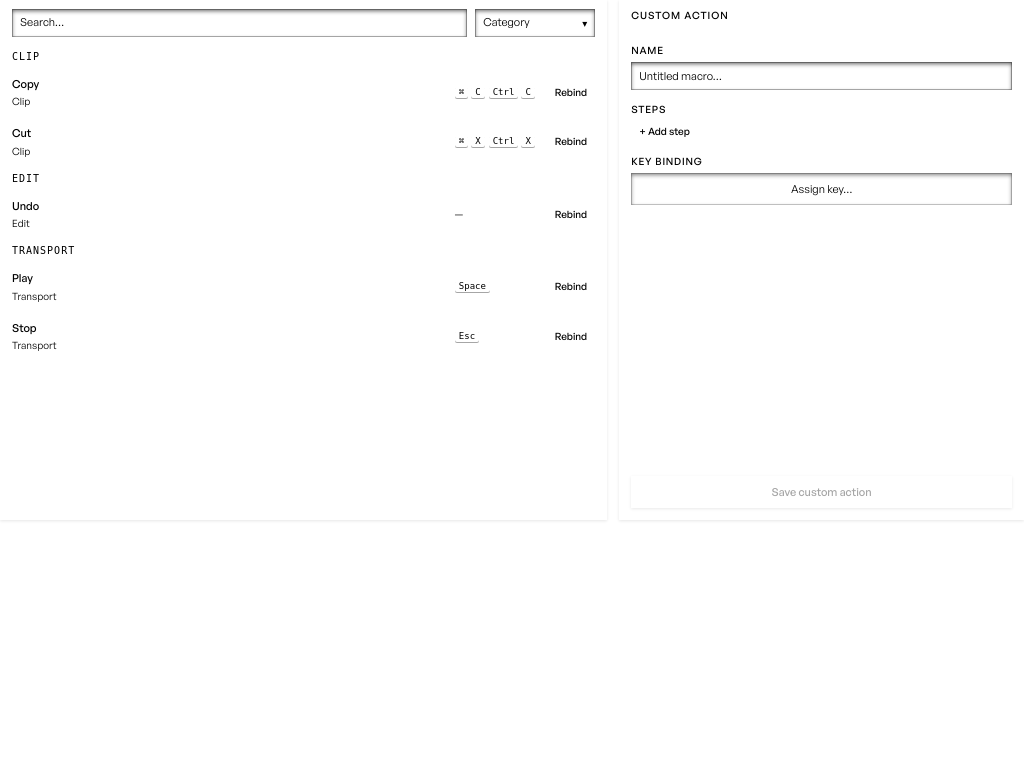
Test: Shortcuts — rebind flow › shows Cancel + Press a key hint when Rebind is clicked
The width and height of the screenshot is (1024, 768).
Click the button "Rebind" in the row of "Copy" at (571, 92), box [547, 80, 595, 104]
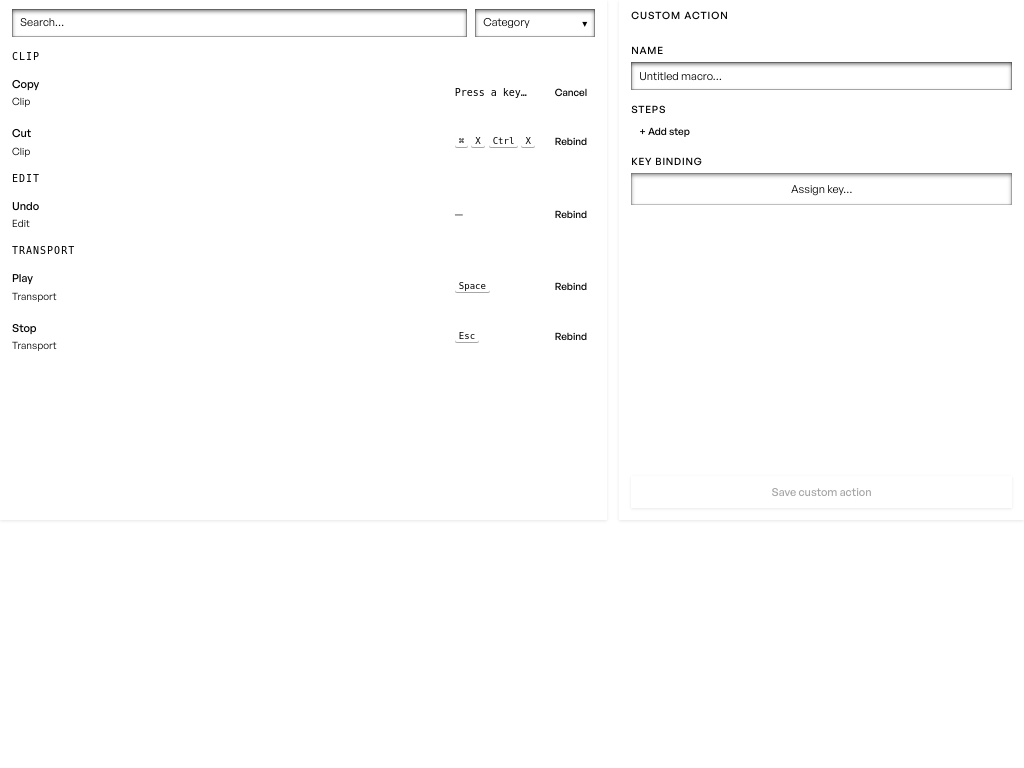
Expected: the button "Cancel" is shown, [547, 80, 595, 104]
Expected: the text "Press a key…" is shown, [455, 85, 527, 100]
